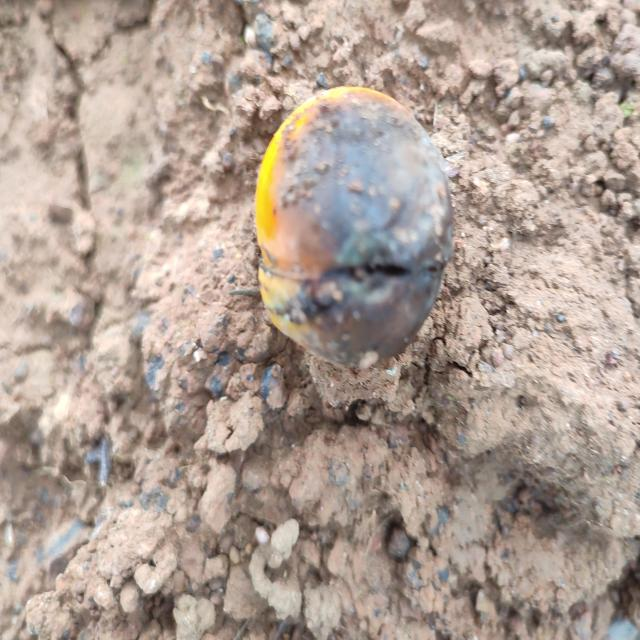damaged: (255, 86, 453, 367)
